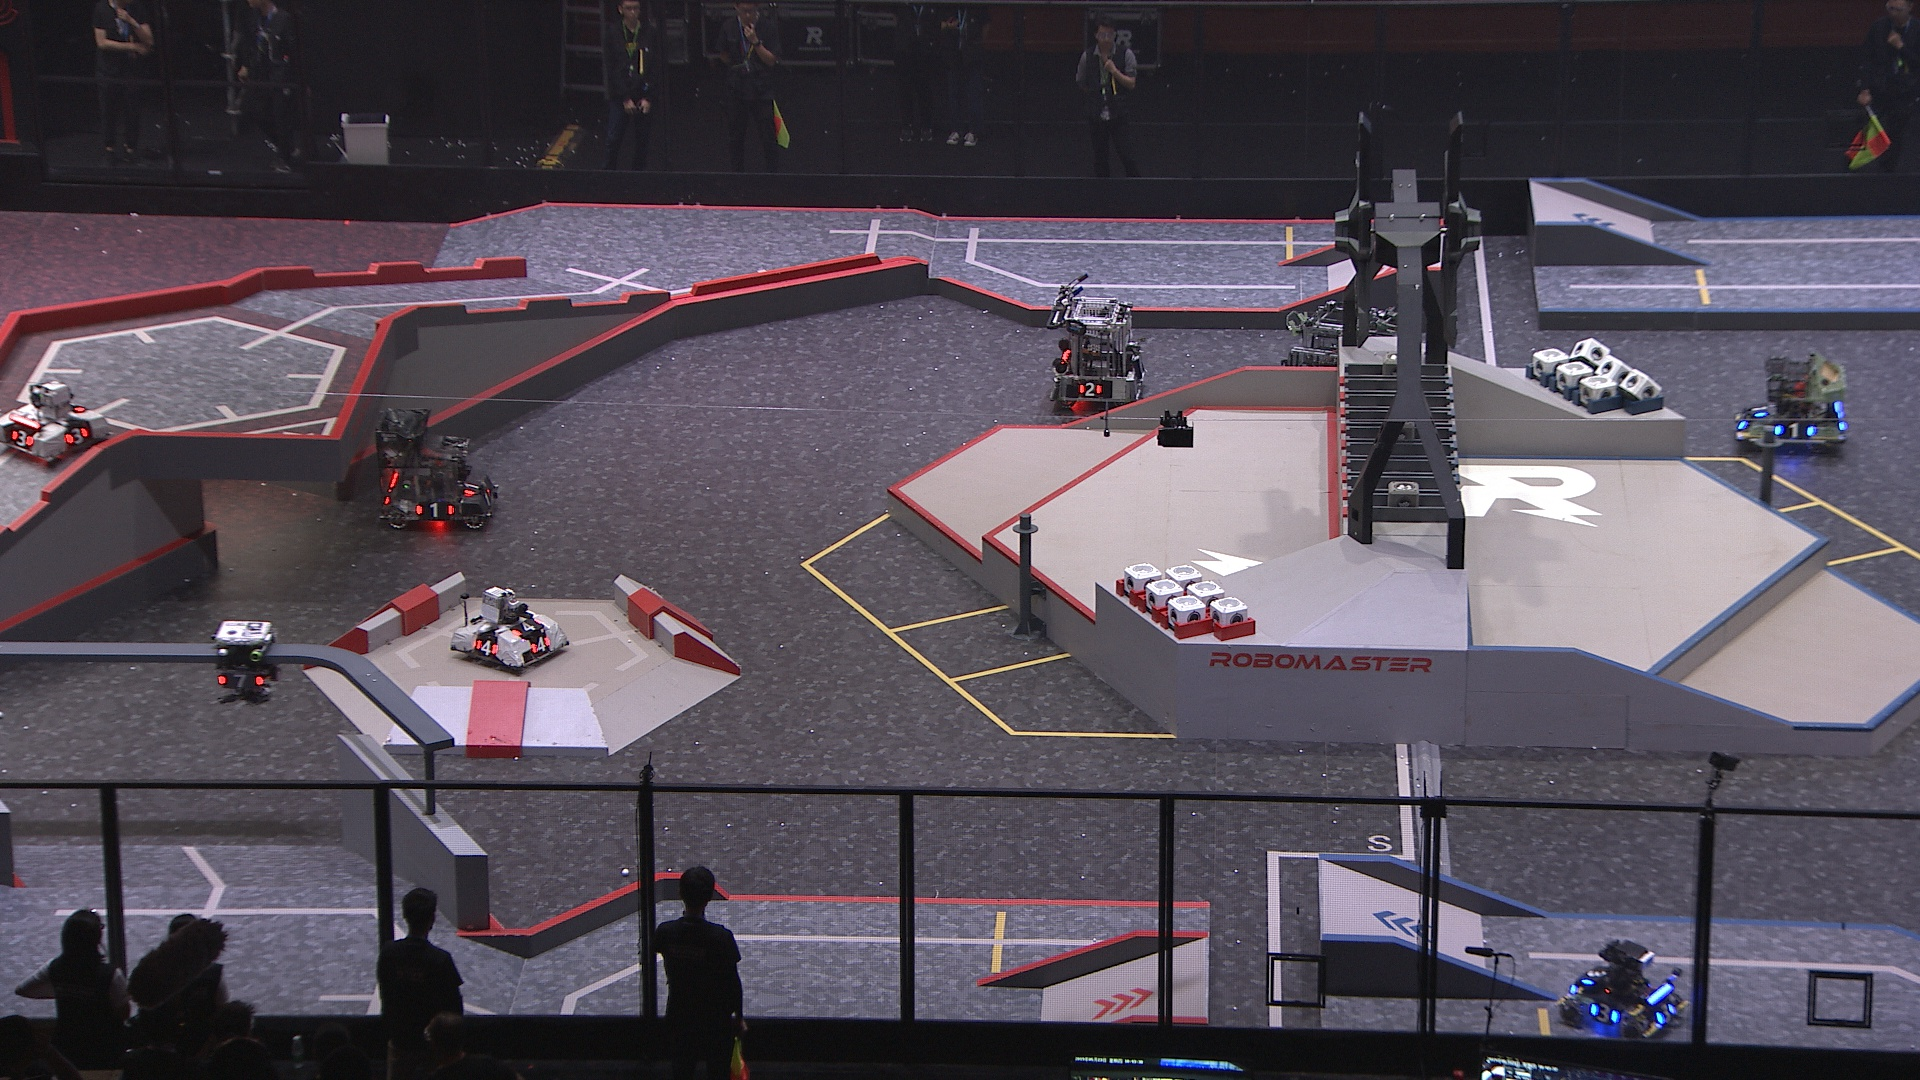armor: (216, 669, 262, 694), (1774, 418, 1818, 440), (1588, 1001, 1619, 1029), (415, 498, 455, 520), (7, 423, 34, 450), (1577, 965, 1605, 992), (1654, 1000, 1680, 1027), (61, 425, 91, 448), (527, 632, 555, 655), (473, 636, 500, 659), (1073, 380, 1105, 398), (512, 616, 541, 636), (460, 475, 481, 498), (477, 483, 495, 509), (1747, 404, 1768, 419)
car: (368, 405, 501, 531), (1278, 291, 1408, 404), (1560, 932, 1695, 1040), (1044, 291, 1150, 414), (1733, 348, 1847, 456), (448, 578, 574, 676)
watcher: (214, 618, 276, 711)
